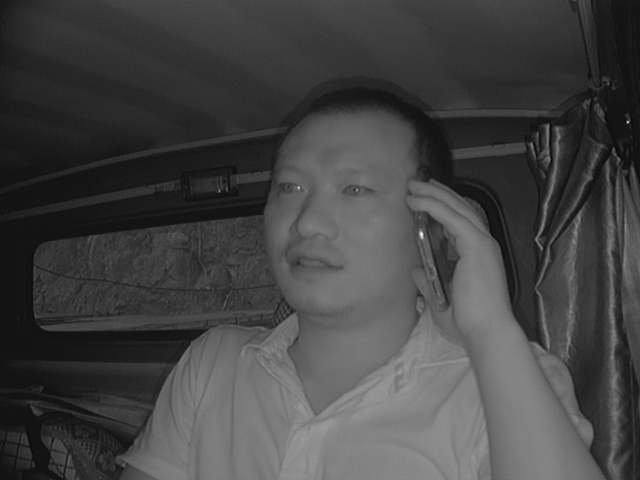hand: (406, 175, 514, 335)
